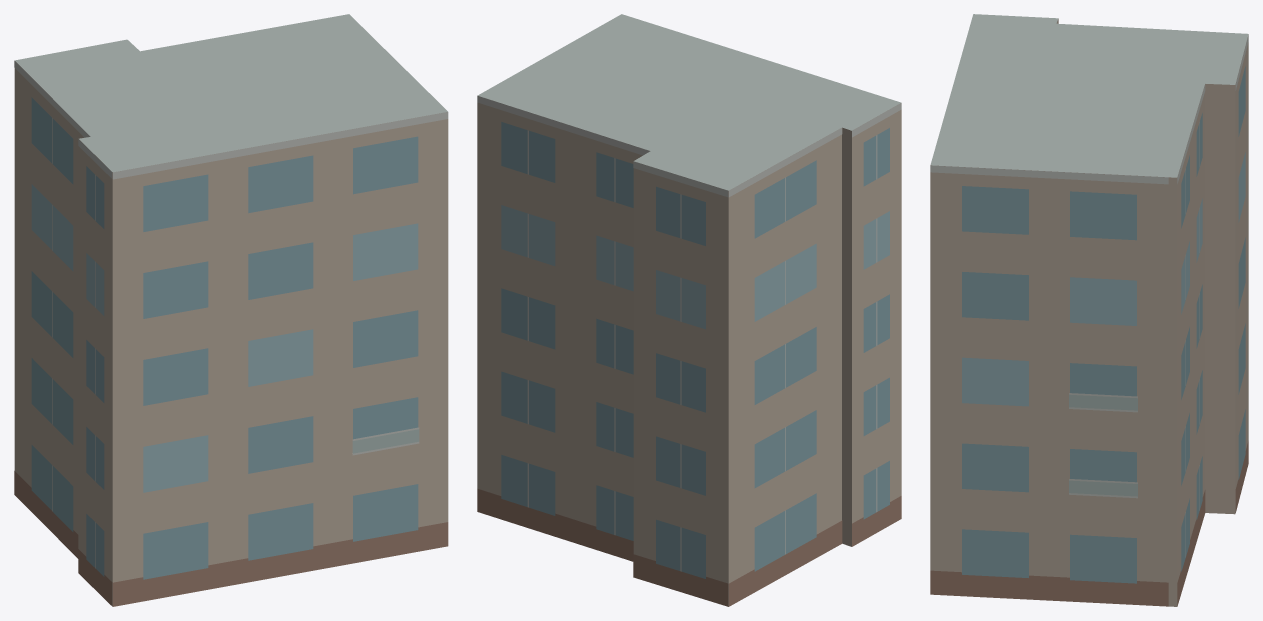
Rendered from survey-upis-32991151.glb.
3 views of the same model, side by side, from view 1: azimuth 30°, elevation 25°; view 2: azimuth 150°, elevation 25°; view 3: azimuth 270°, elevation 25° (orthographic). The views are drawn at different scales.
Parts seen in each view (by area): view 1: survey-upis-32991151.tmp; view 2: survey-upis-32991151.tmp; view 3: survey-upis-32991151.tmp.
Boxes of the visible parts, x1=… form: survey-upis-32991151.tmp: x1=14, y1=14, x2=448, y2=606; survey-upis-32991151.tmp: x1=477, y1=14, x2=901, y2=606; survey-upis-32991151.tmp: x1=930, y1=14, x2=1248, y2=606.
Bounding box in the file's own units: 12.14 × 14.83 × 9.98.
